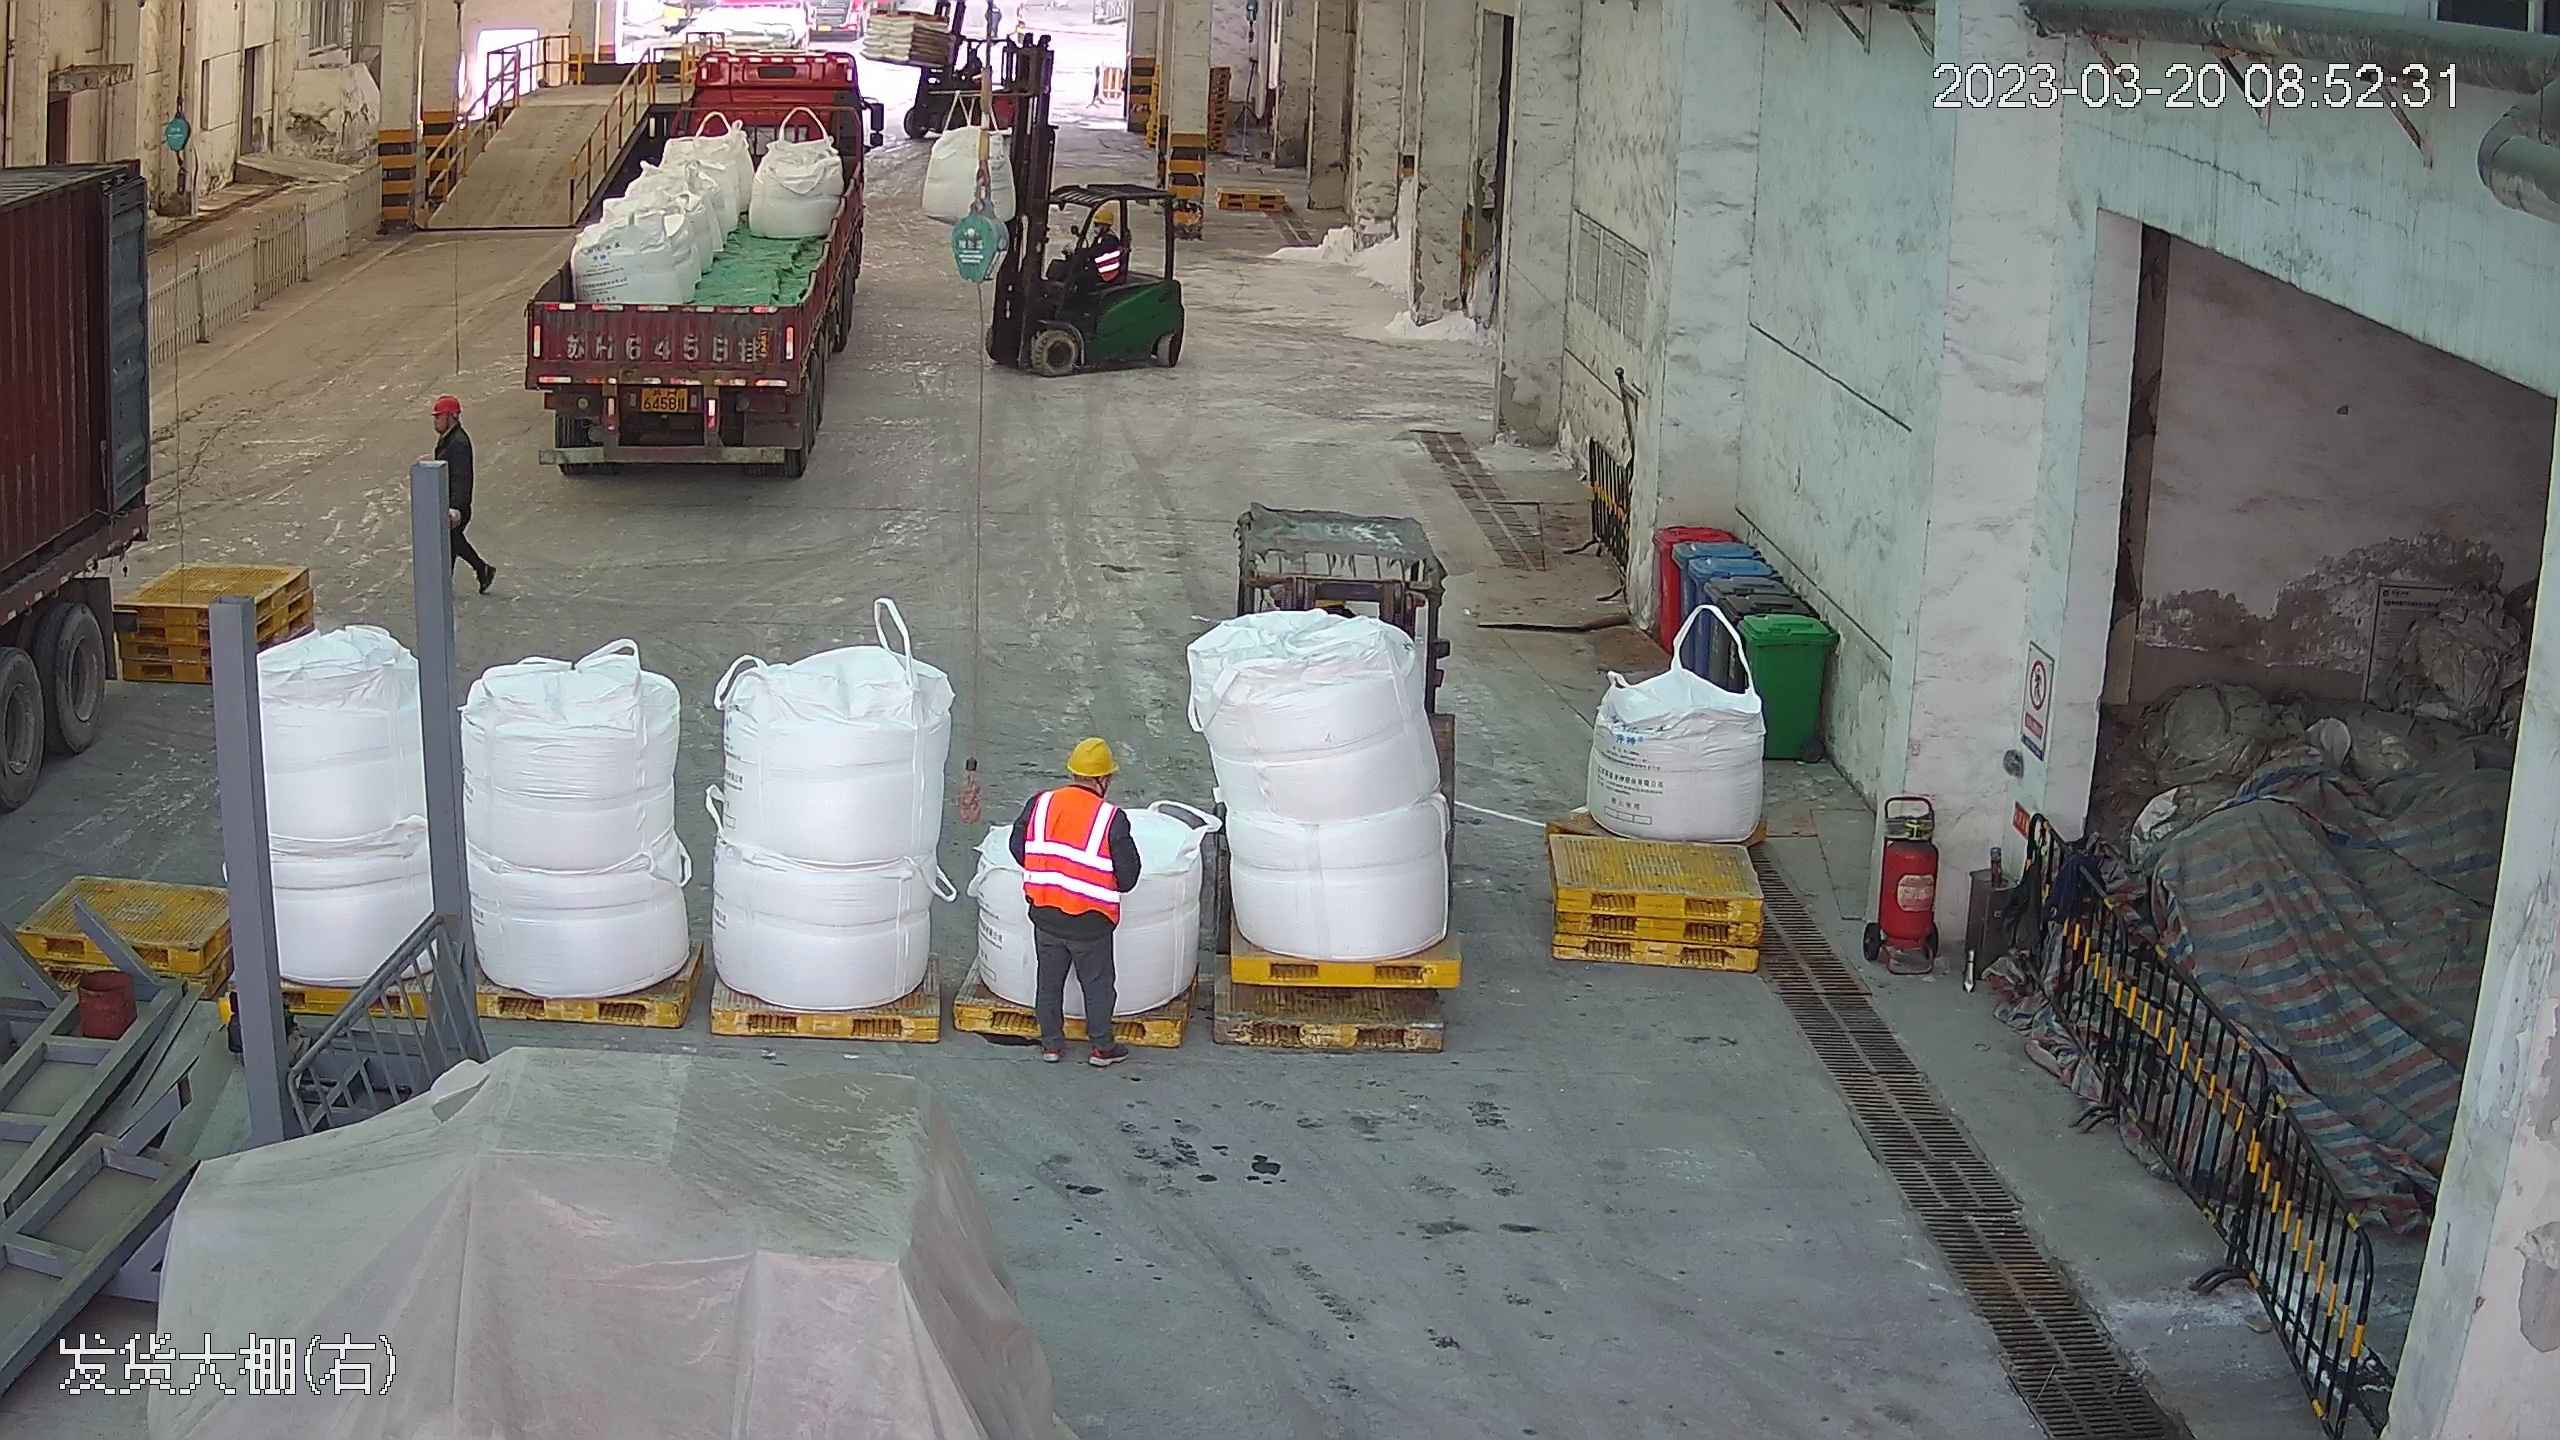head: (1023, 735, 1127, 842), (428, 389, 477, 458), (1082, 201, 1122, 254)
helmet: (1066, 735, 1120, 776), (431, 390, 462, 416), (1090, 203, 1117, 226)
people: (1012, 729, 1137, 1058), (431, 387, 501, 600), (1065, 202, 1119, 311)
truck: (516, 18, 875, 482), (0, 26, 176, 932)
